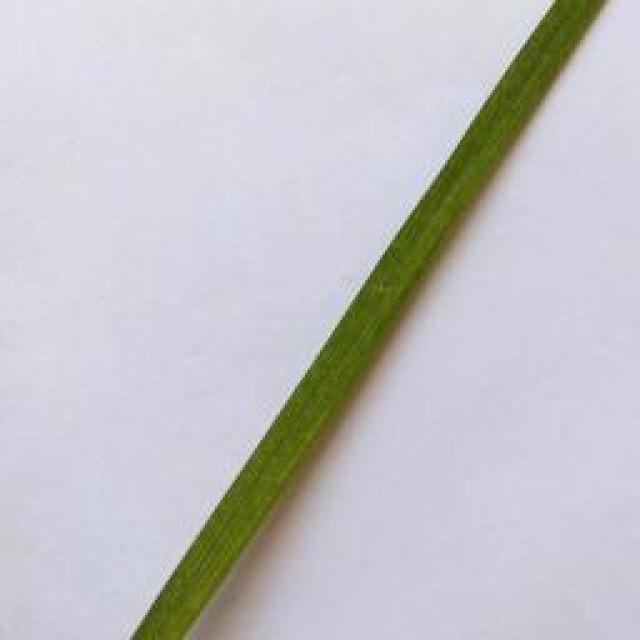Healthy-Plant: (127, 0, 608, 640)
